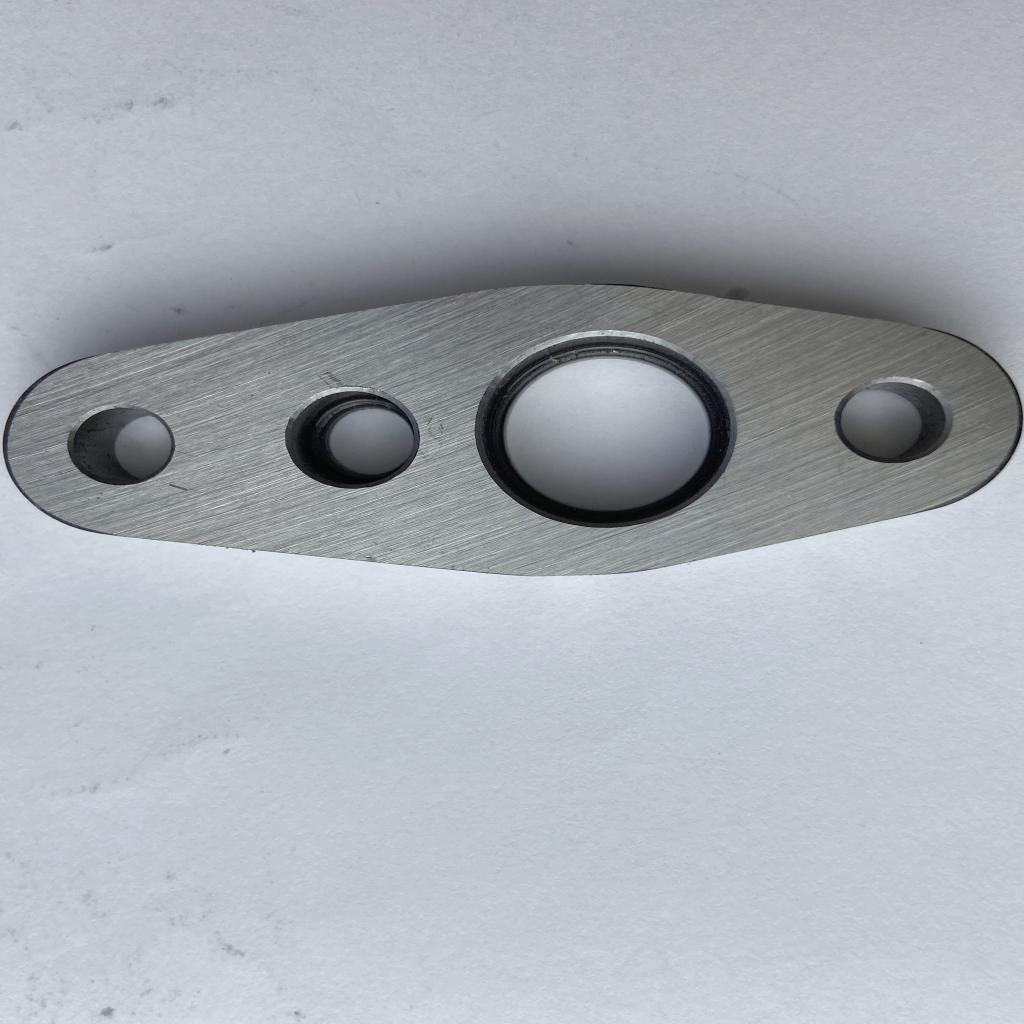chap: (360, 553, 385, 563)
lines: (421, 412, 455, 451), (162, 480, 205, 496), (315, 367, 345, 389)
